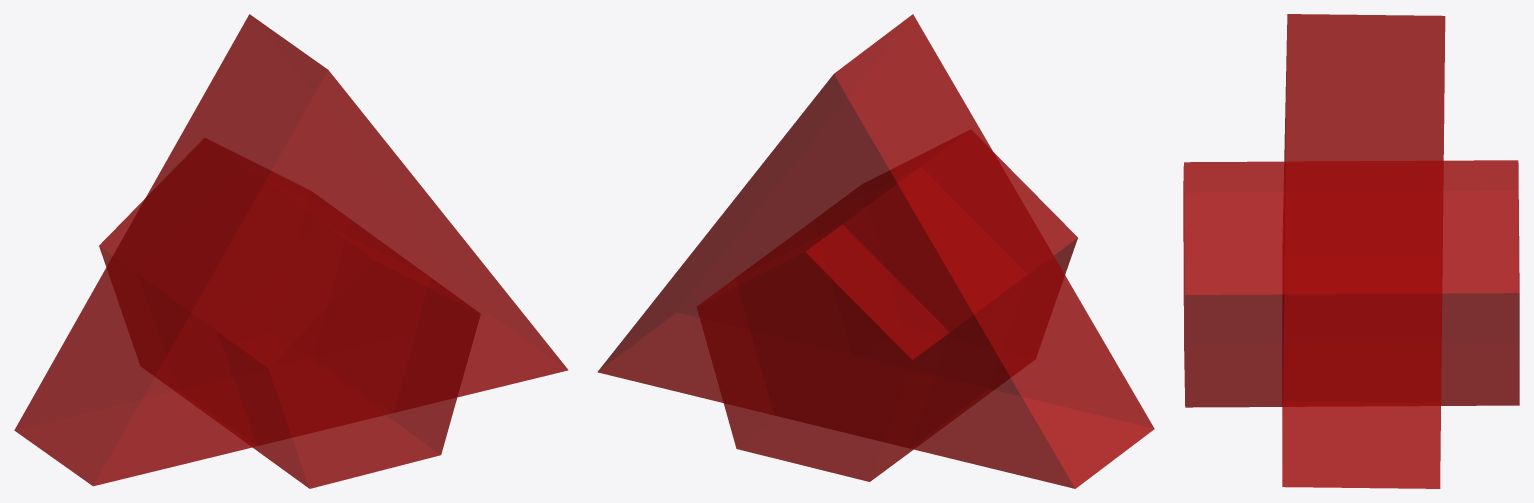
The model's file is SM_Prop_Whale_Skeleton_Vertebra_01_Collision.fbx.
3 renders of one model, left to right at view 1: azimuth 30°, elevation 25°; view 2: azimuth 150°, elevation 25°; view 3: azimuth 270°, elevation 25°, orthographic.
Visible parts, largest first — view 1: SM_Prop_Whale_Skeleton_Vertebra_01_Collision; view 2: SM_Prop_Whale_Skeleton_Vertebra_01_Collision; view 3: SM_Prop_Whale_Skeleton_Vertebra_01_Collision.
Boxes of the visible parts, x1=… form: SM_Prop_Whale_Skeleton_Vertebra_01_Collision: x1=14, y1=14, x2=568, y2=488; SM_Prop_Whale_Skeleton_Vertebra_01_Collision: x1=597, y1=14, x2=1154, y2=488; SM_Prop_Whale_Skeleton_Vertebra_01_Collision: x1=1183, y1=14, x2=1519, y2=488.
Bounding box in the file's own units: 186 × 136 × 114.
